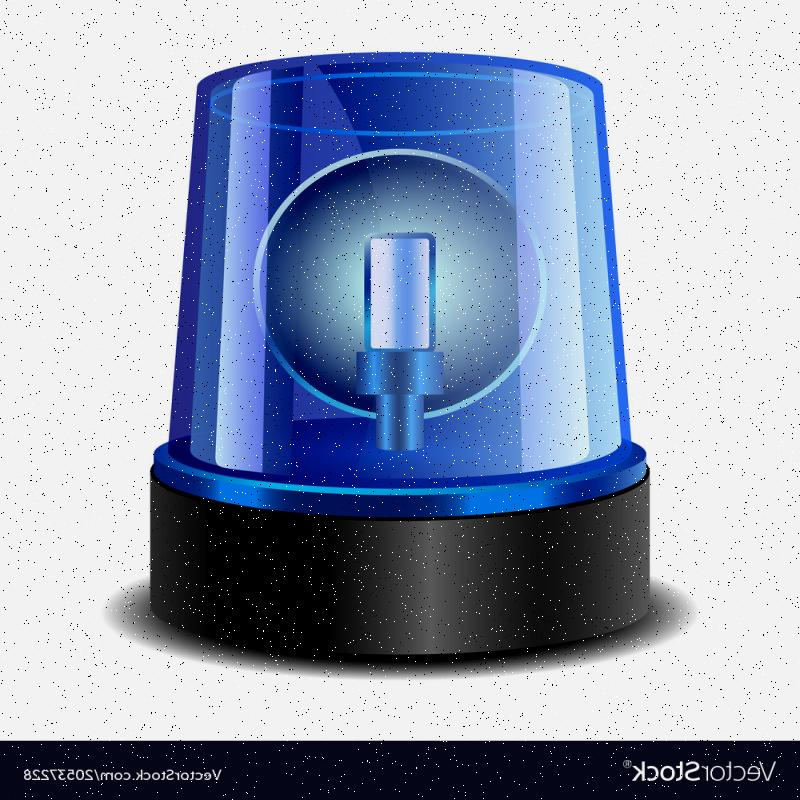AmbulanceSiren: (82, 36, 670, 692)
